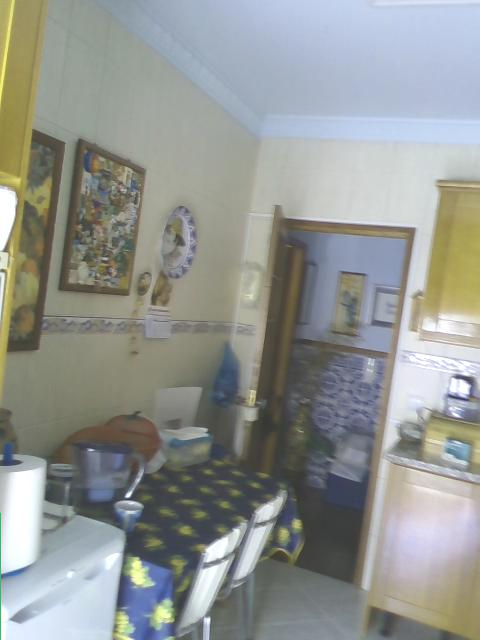open_door: (232, 215, 418, 589)
